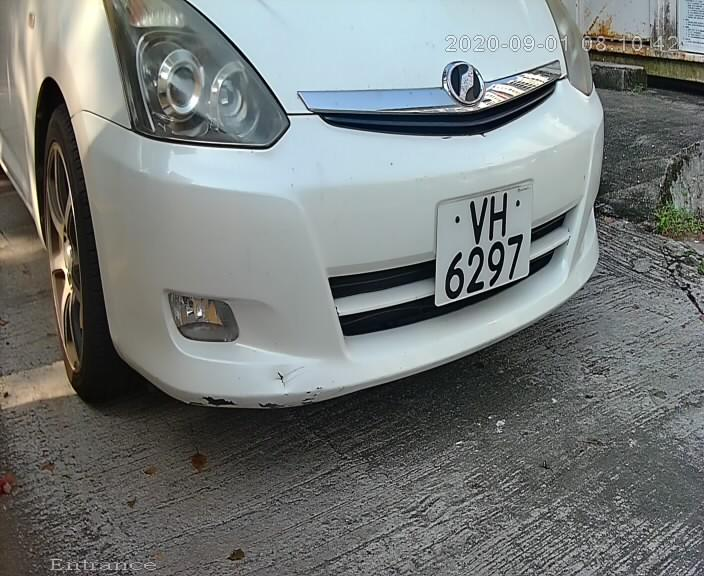License Plate: (428, 175, 535, 314)
